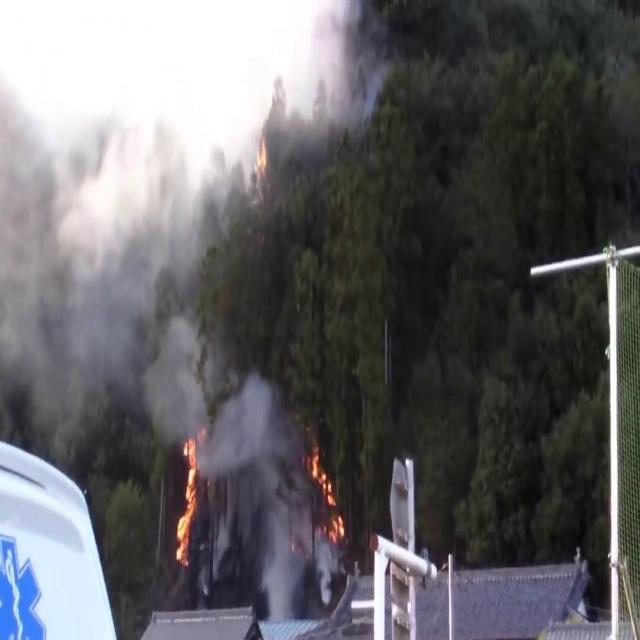Fire: (171, 431, 205, 569), (306, 445, 346, 553)
Smoke: (0, 54, 224, 458), (209, 366, 323, 602)
